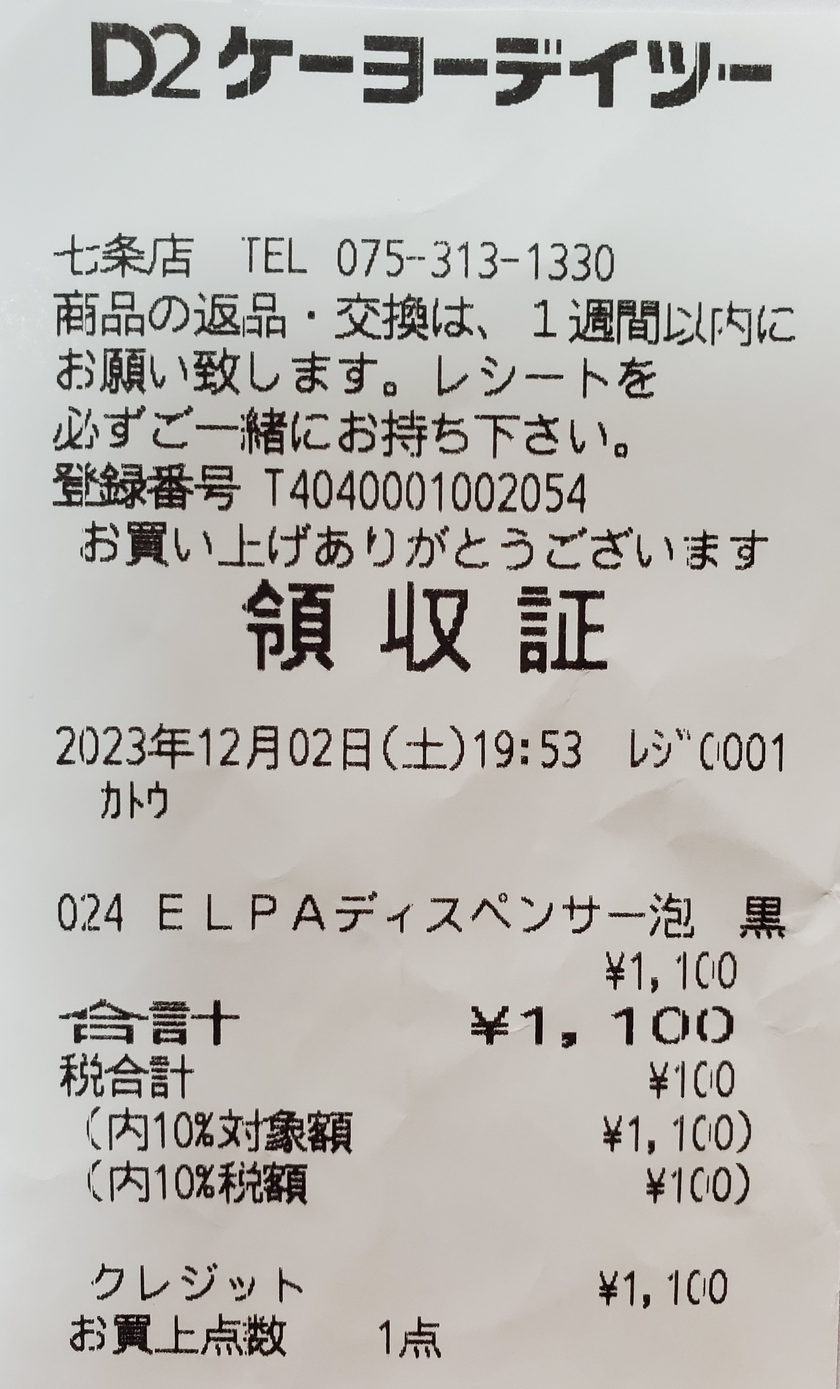Date: (51, 699, 378, 781)
Shopname: (59, 11, 787, 148)
Telnum: (333, 228, 636, 289)
Totalpay: (53, 986, 750, 1055)
